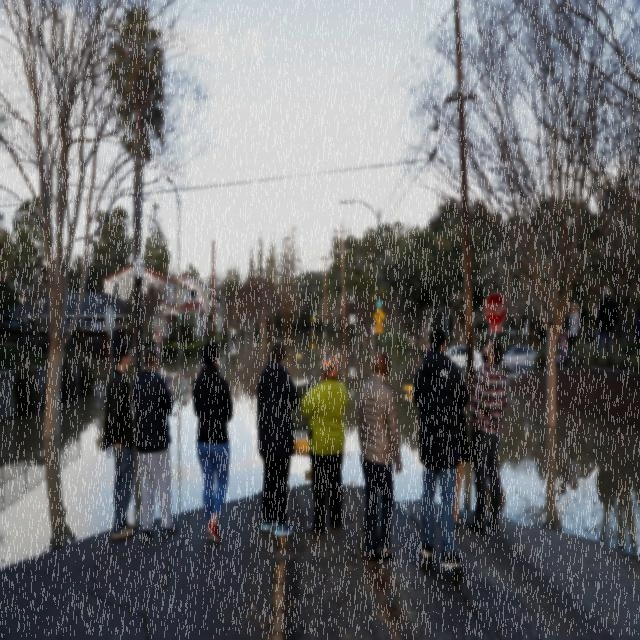pessoa: (410, 324, 473, 588), (128, 342, 182, 546), (354, 345, 404, 565), (252, 336, 302, 542), (189, 338, 237, 550), (300, 353, 350, 538), (464, 337, 509, 540), (100, 342, 138, 543), (556, 422, 629, 524), (452, 404, 472, 532), (594, 286, 618, 356), (563, 299, 580, 371), (72, 330, 116, 350), (559, 323, 570, 369)
